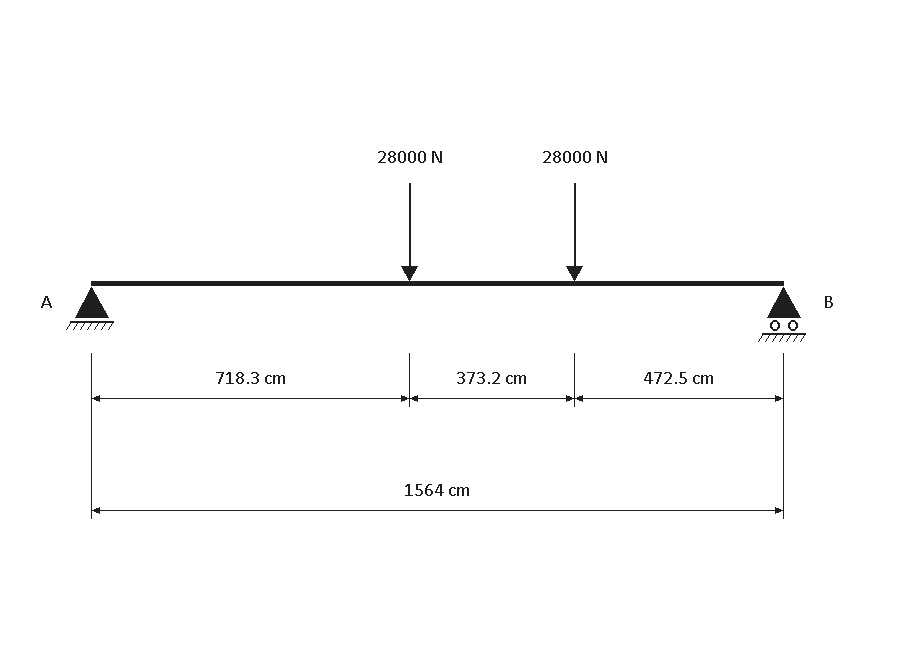pin_support: (66, 287, 114, 330)
point_load: (401, 183, 418, 281), (566, 183, 583, 281)
roller_support: (758, 287, 806, 342)
